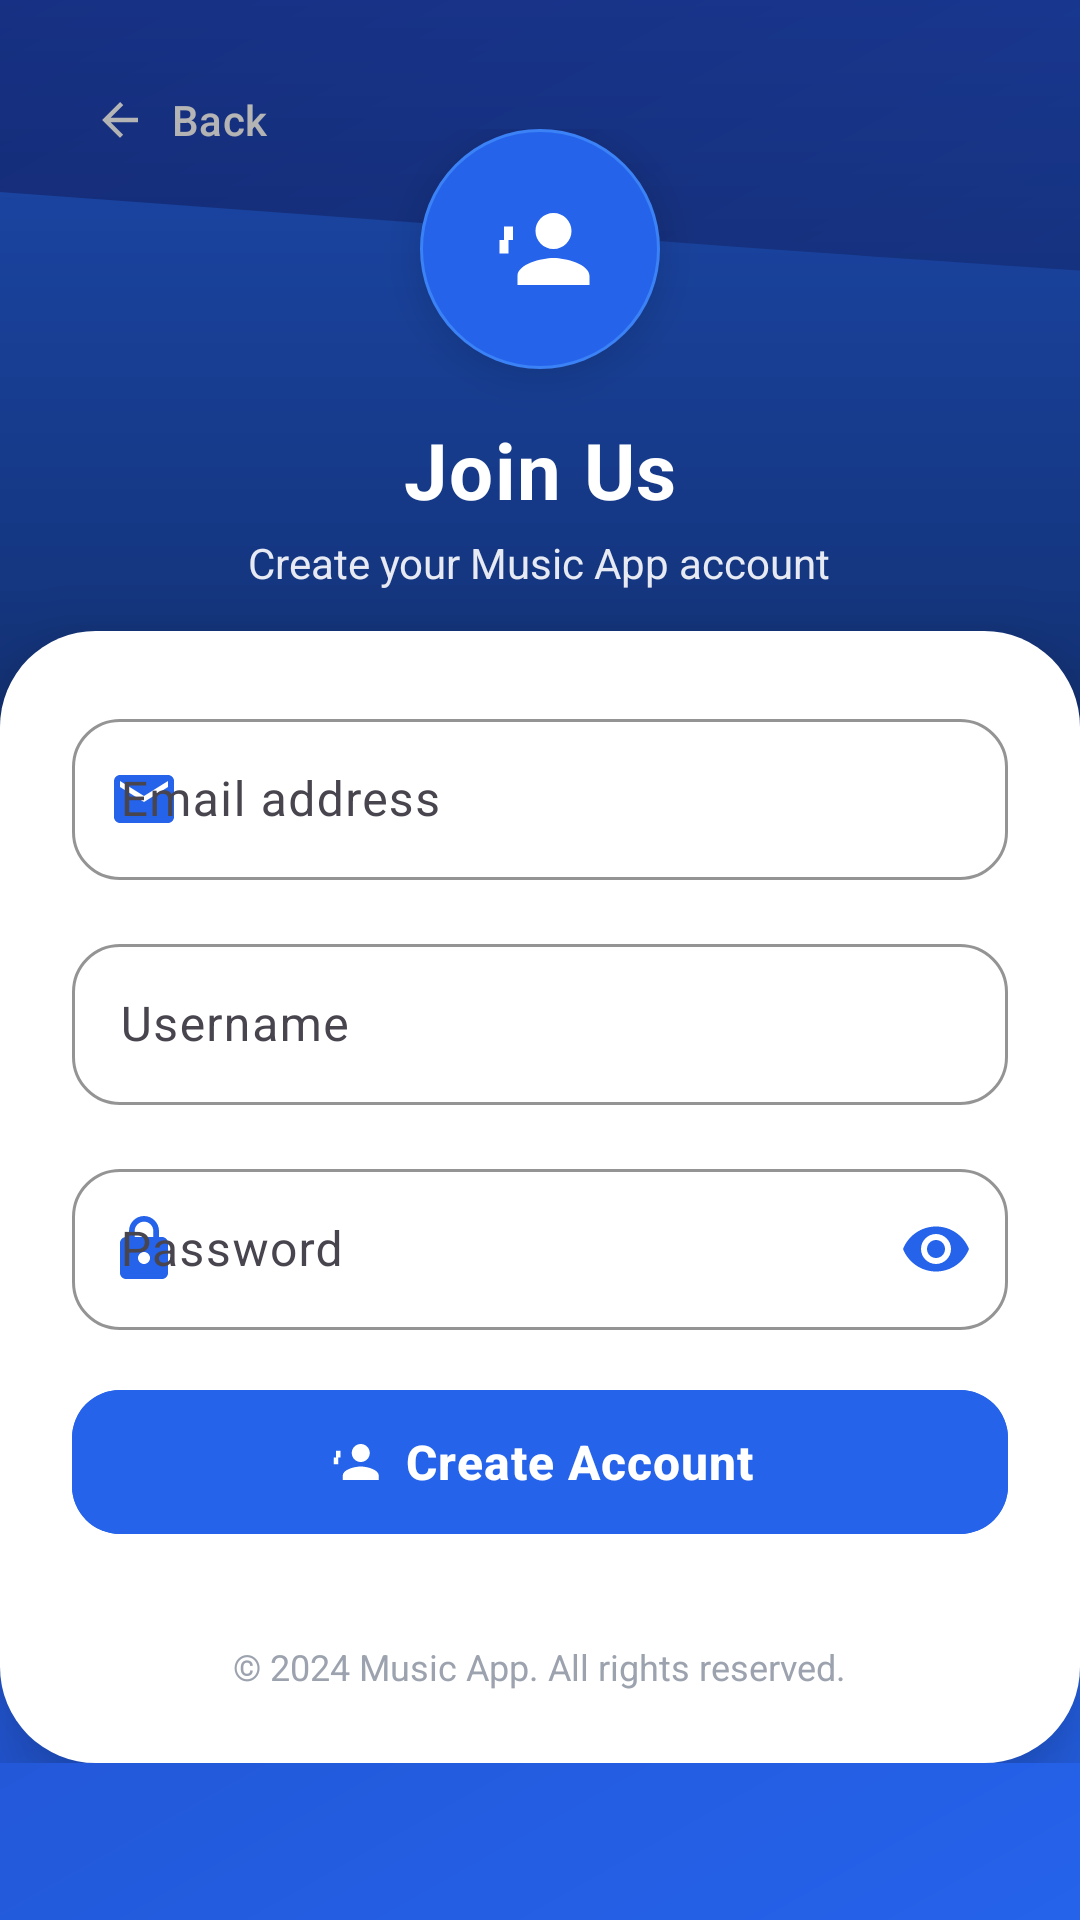

Locate icon controls on the screen. Image size 1080x1920, boxes as bbox=[x1, y1, x2, y2].
person add: bbox=[499, 213, 590, 285]
